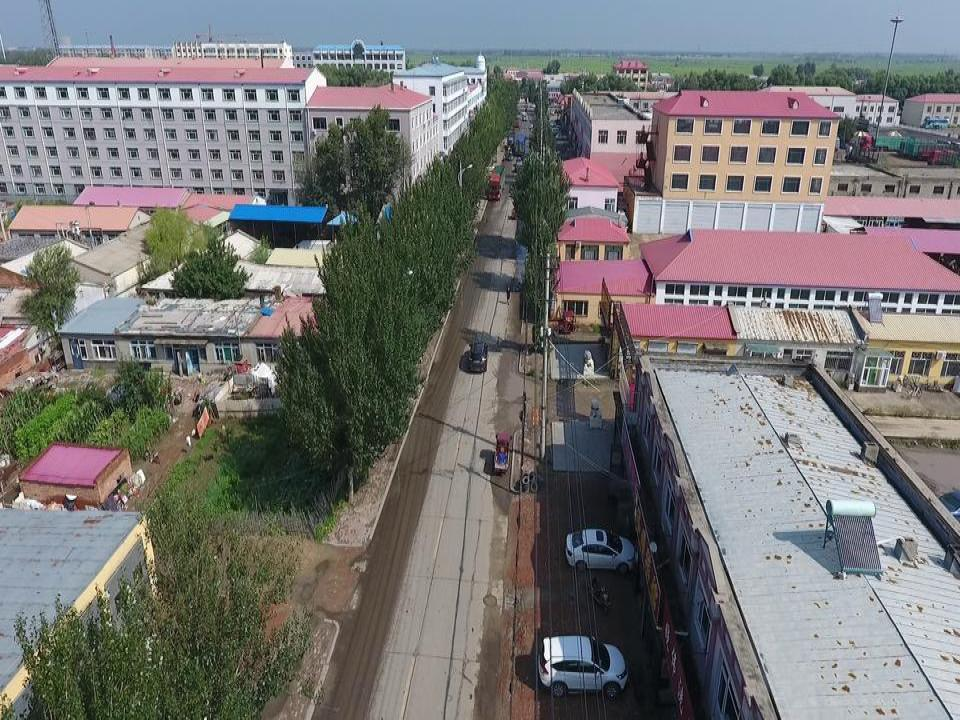bus: (923, 118, 949, 130)
car: (539, 636, 629, 697), (564, 528, 637, 571), (469, 341, 488, 372), (514, 156, 524, 172), (478, 163, 495, 172)
truck: (860, 134, 916, 150), (494, 430, 512, 470), (488, 164, 506, 201), (515, 135, 526, 156)
